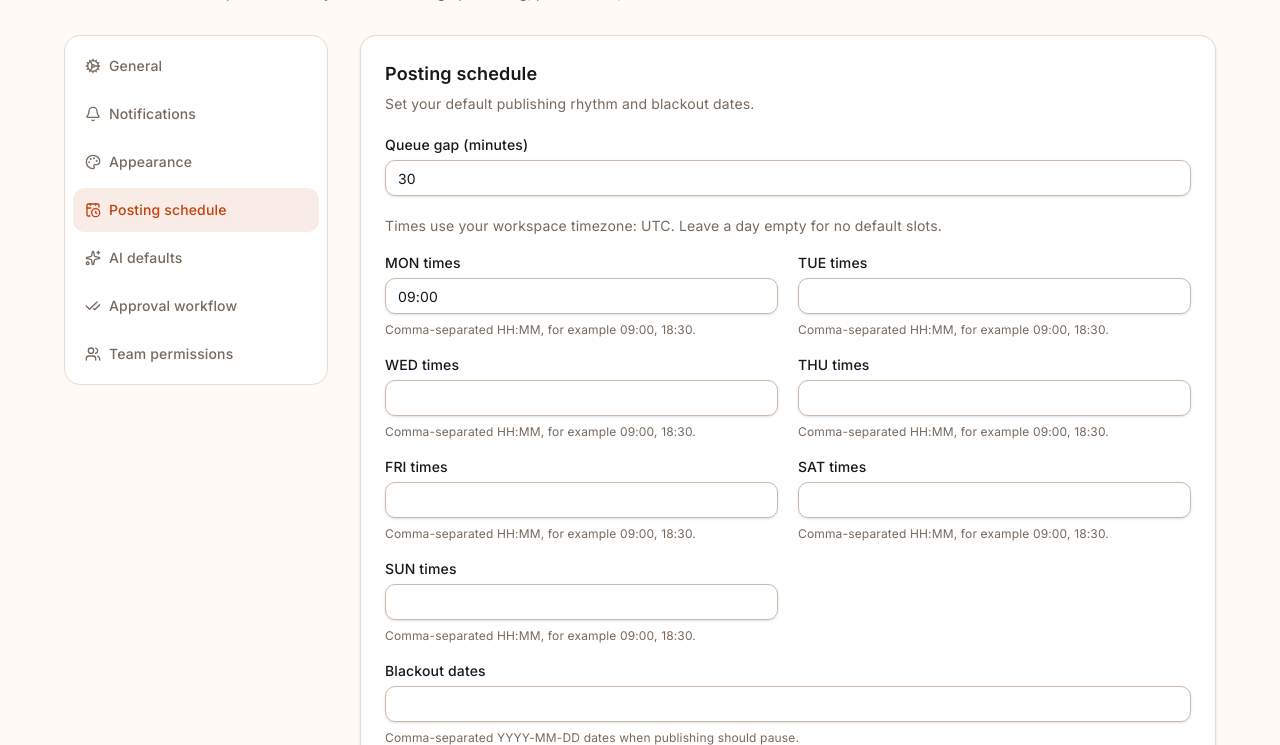
SettingsPage › rejects invalid Blackout dates without saving
Clear the field labelled "Blackout dates" at (788, 704), box [385, 686, 1191, 722]
(page scrolled)
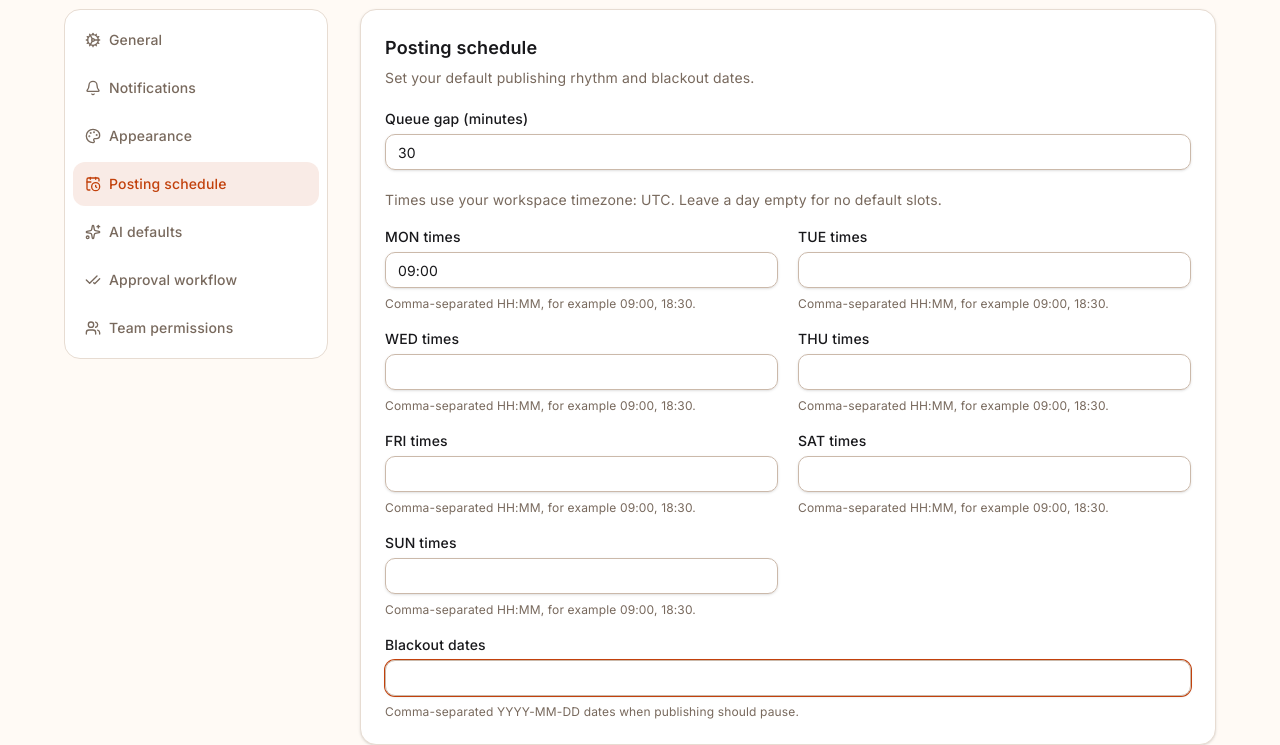
Type "2026-02-30" into the field labelled "Blackout dates" at (788, 678), box [385, 660, 1191, 696]
(page scrolled)
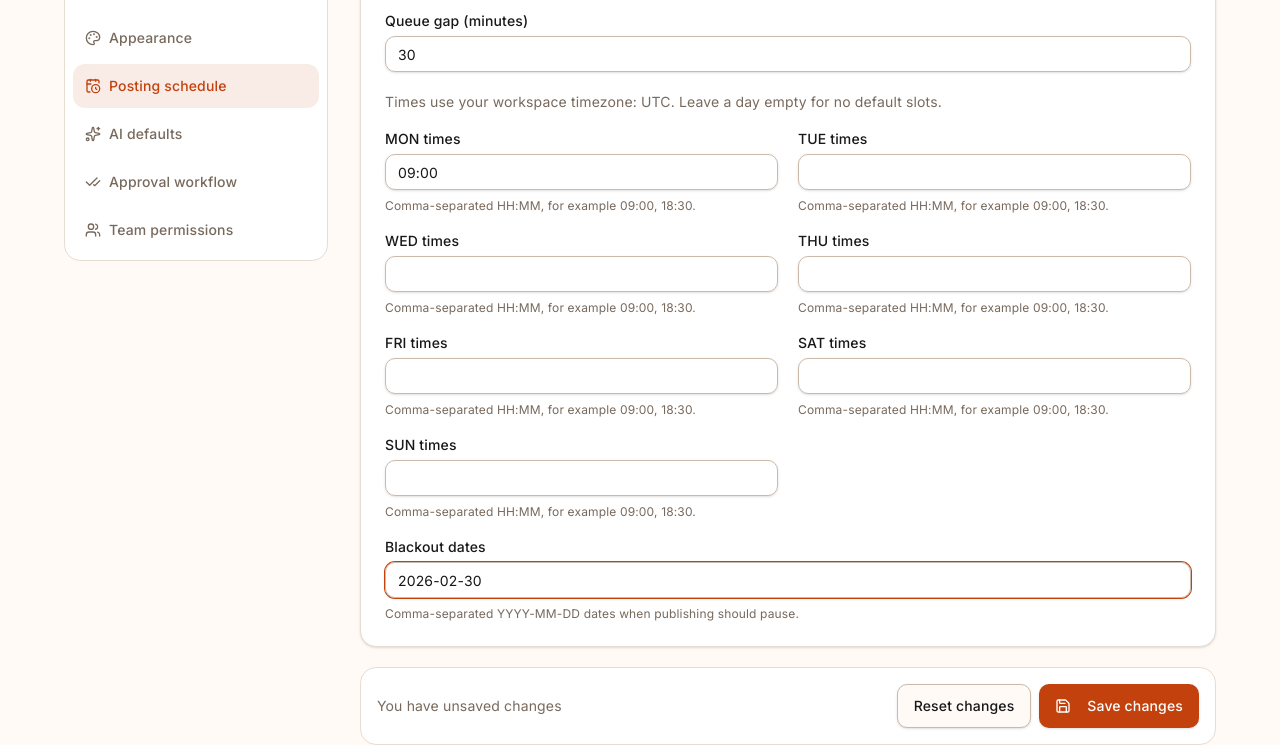
Click the button "Save changes" at (1119, 706), box [1039, 684, 1199, 728]
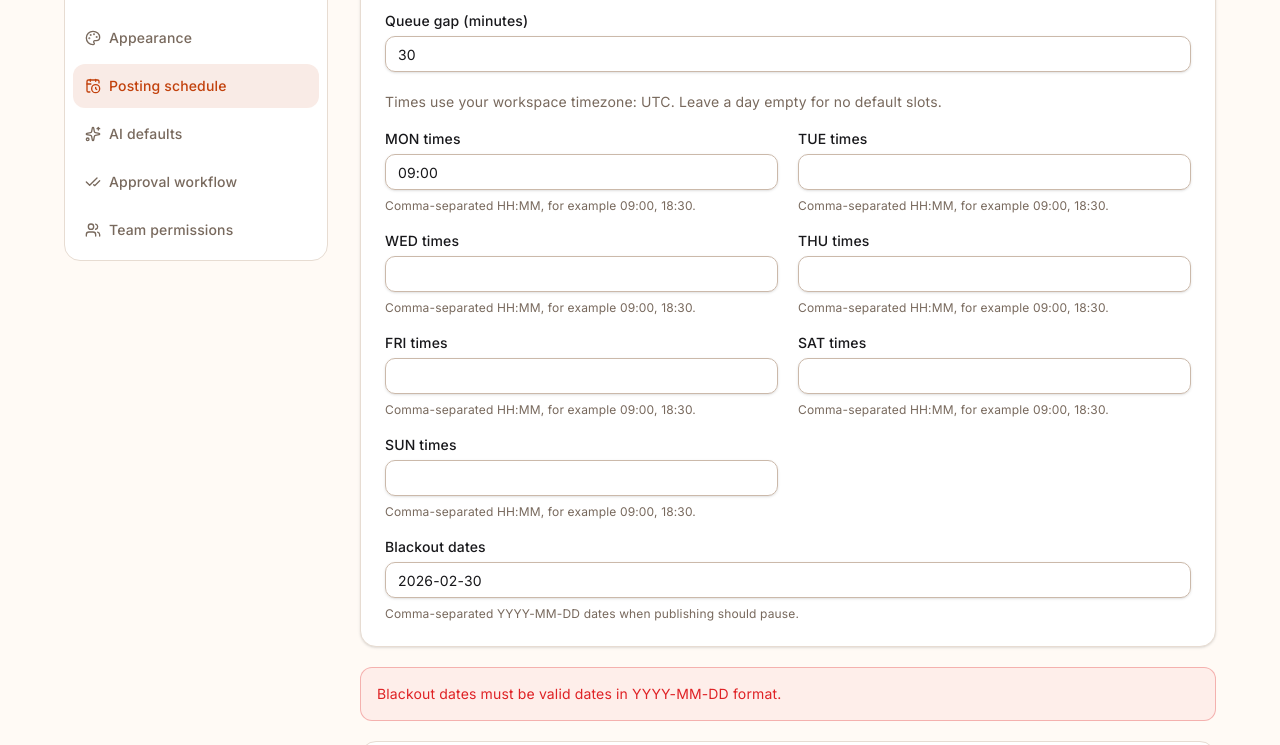
Expected: the message shows "valid dates", [377, 685, 781, 702]
